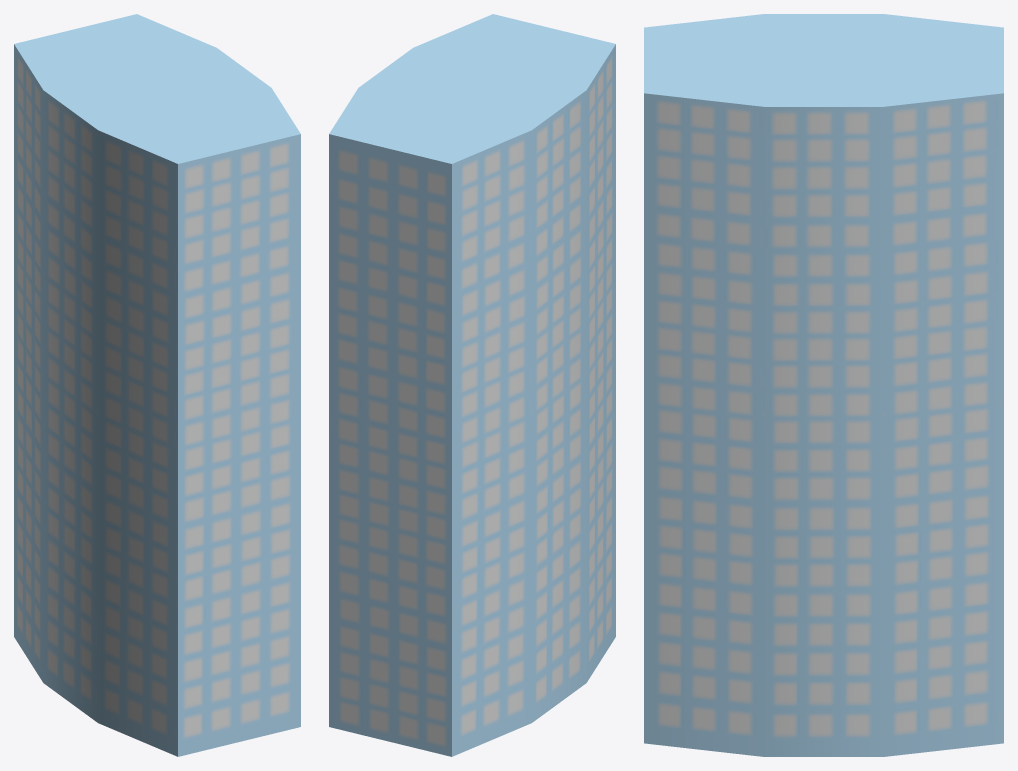
The model's file is mWhole.fbx.
3 renders of one model, left to right at view 1: azimuth 30°, elevation 25°; view 2: azimuth 150°, elevation 25°; view 3: azimuth 270°, elevation 25°, orthographic. The views are drawn at different scales.
Parts seen in each view (by area): view 1: Metlife; view 2: Metlife; view 3: Metlife.
Part boxes in pixels (x1,y1,x2,y2): Metlife: (14,14,300,756); Metlife: (329,14,615,756); Metlife: (644,14,1003,756).
Size of the model in its own units: 0.1357 by 0.4431 by 0.2222.
Materials: 1 (1 with a texture image).
